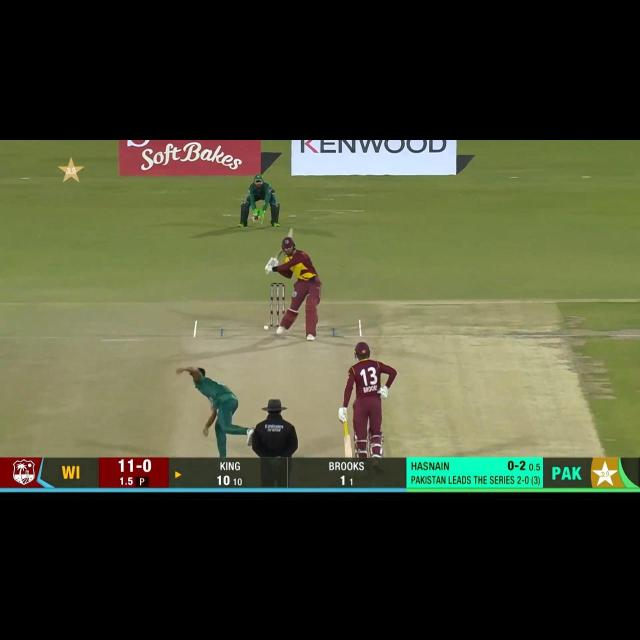bat: (271, 229, 293, 260), (342, 434, 355, 460)
toe: (286, 227, 296, 238)
